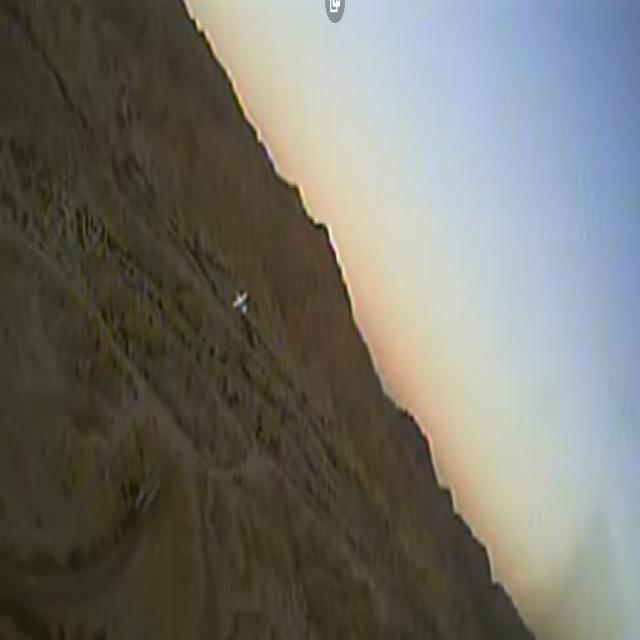iha: (232, 286, 249, 317)
